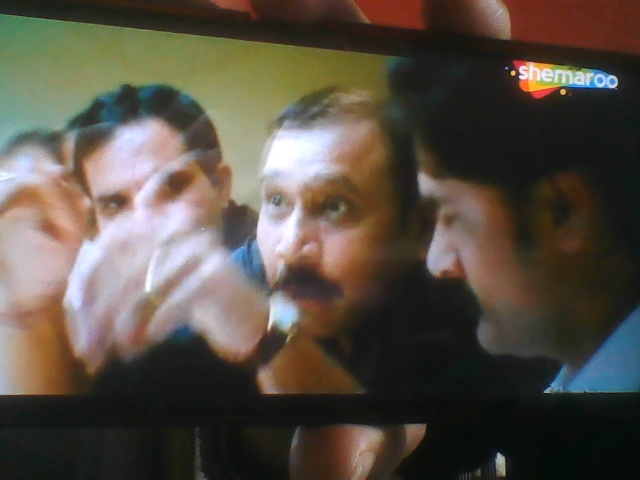fake: (238, 62, 434, 340), (404, 79, 590, 342), (85, 75, 237, 290)
